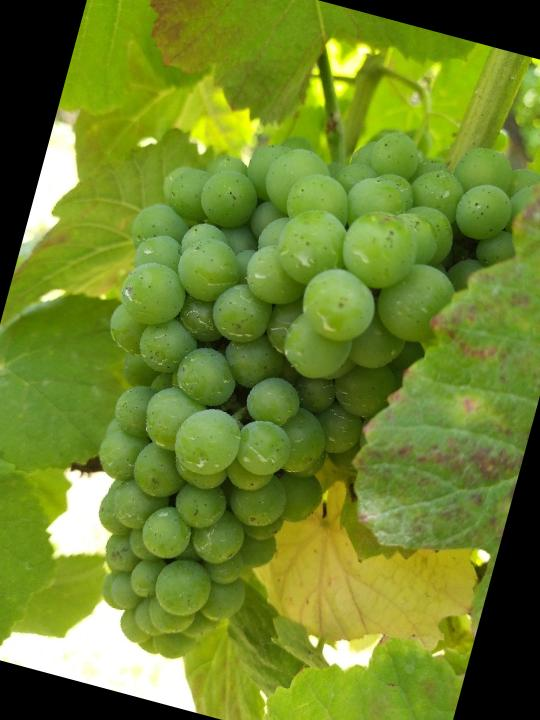grape: (24, 67, 540, 720)
